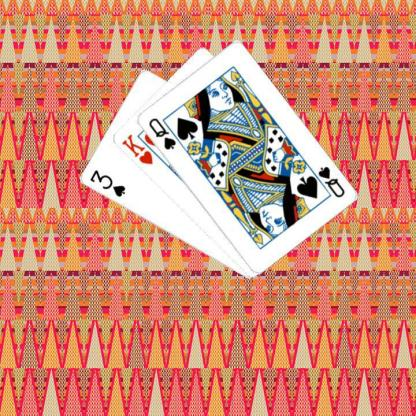3S: (86, 167, 126, 198)
KH: (118, 131, 154, 166)
QS: (146, 115, 178, 151), (315, 164, 345, 200)
